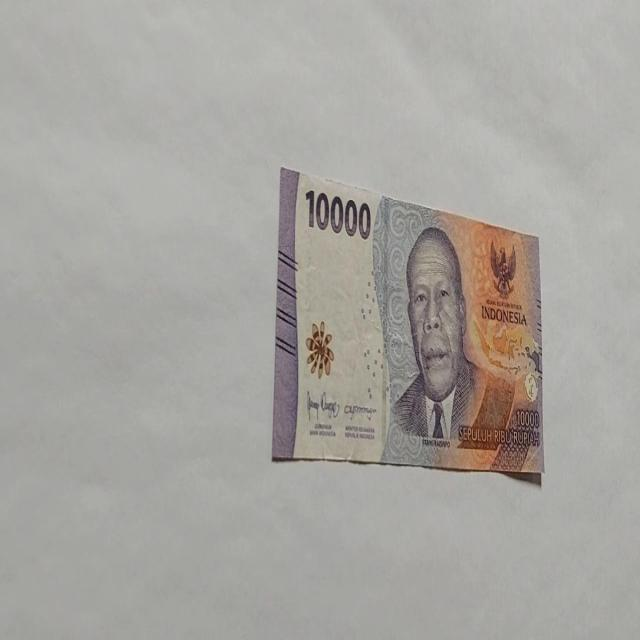Kertas: (271, 165, 545, 478), (304, 187, 372, 241)
